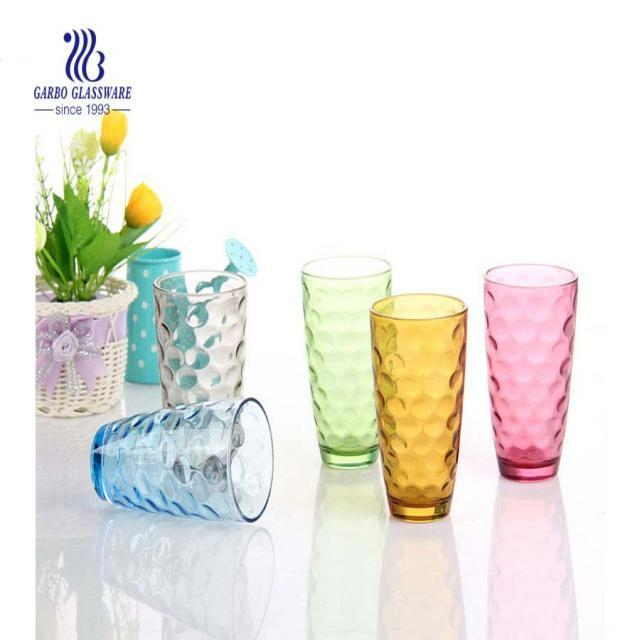glass: (87, 394, 279, 523), (371, 292, 469, 524), (301, 253, 401, 469), (486, 263, 578, 481), (153, 270, 248, 401)
